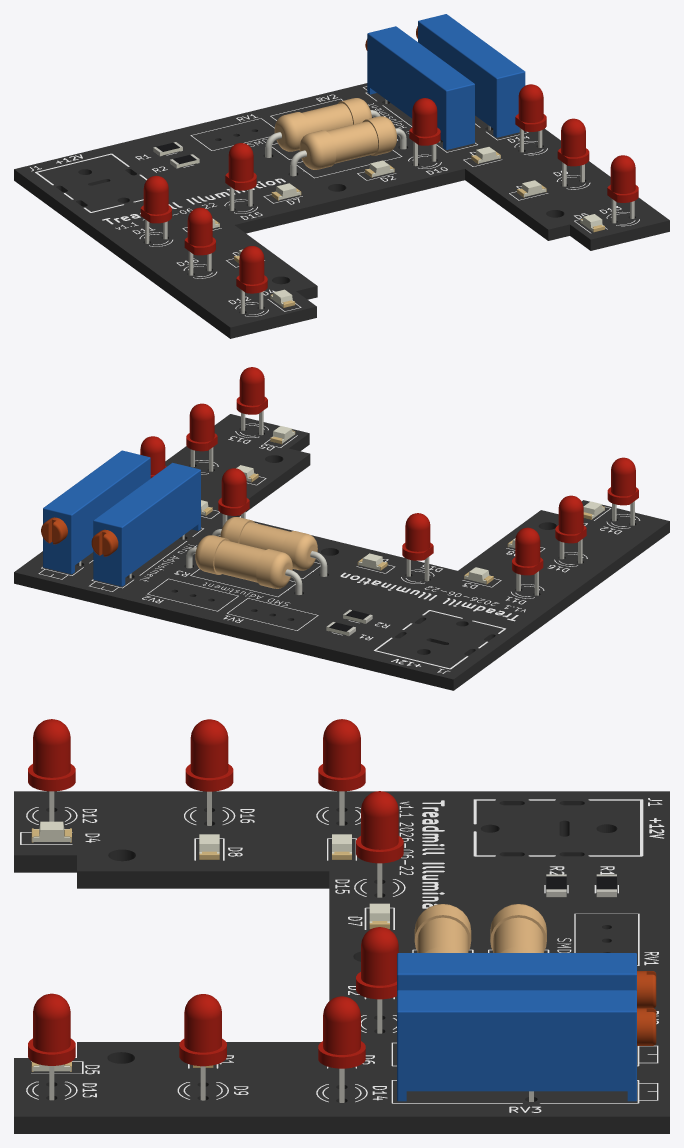
Rendered from Treadmill-Illumination-v1.1.glb.
The picture shows the model from 3 angles, top to bottom: view 1: azimuth 30°, elevation 25°; view 2: azimuth 150°, elevation 25°; view 3: azimuth 270°, elevation 25°; orthographic projection. The views are drawn at different scales.
Parts seen in each view (by area): view 1: =>[0:1:1:14], =>[0:1:1:5] (×2), =>[0:1:1:7] (×8), =>[0:1:1:9] (×2), =>[0:1:1:12]; view 2: =>[0:1:1:14], =>[0:1:1:5] (×2), =>[0:1:1:7] (×8), =>[0:1:1:9] (×2), =>[0:1:1:12]; view 3: =>[0:1:1:14], =>[0:1:1:5] (×2), =>[0:1:1:7] (×8), =>[0:1:1:12], =>[0:1:1:9] (×2), =>[0:1:1:3].
Boxes of the visible parts, box(x1,y1,x2,y2) form: =>[0:1:1:14]: box(14, 83, 669, 338); =>[0:1:1:5] (×2): box(365, 14, 525, 149); =>[0:1:1:7] (×8): box(140, 84, 638, 313); =>[0:1:1:9] (×2): box(265, 98, 406, 176); =>[0:1:1:12]: box(30, 86, 639, 316); =>[0:1:1:14]: box(14, 414, 669, 690); =>[0:1:1:5] (×2): box(41, 450, 200, 586); =>[0:1:1:7] (×8): box(140, 367, 638, 595); =>[0:1:1:9] (×2): box(186, 517, 327, 594); =>[0:1:1:12]: box(38, 423, 640, 673); =>[0:1:1:14]: box(14, 791, 669, 1133); =>[0:1:1:5] (×2): box(397, 953, 656, 1101); =>[0:1:1:7] (×8): box(28, 719, 403, 1102); =>[0:1:1:12]: box(20, 798, 664, 1112); =>[0:1:1:9] (×2): box(414, 904, 546, 952); =>[0:1:1:3]: box(31, 821, 71, 842).
Bounding box in the file's own units: 0.061 × 0.0113 × 0.052.
